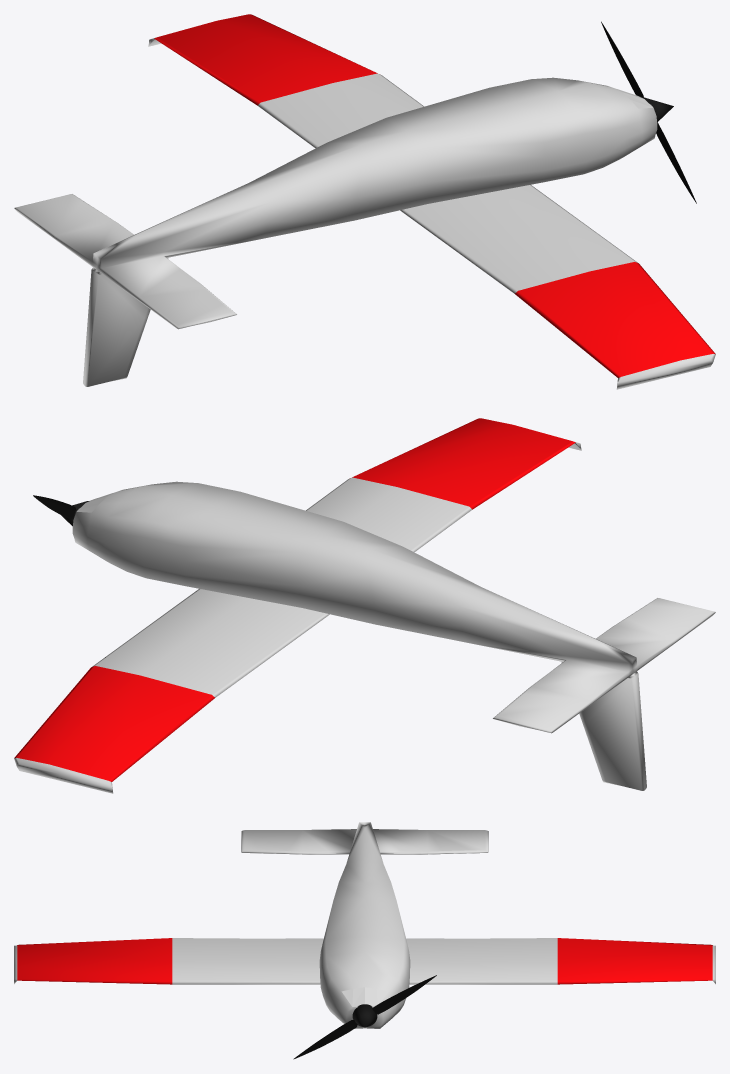
The model's file is miniplane_red.obj.
3 views of the same model, one above another, from view 1: azimuth 30°, elevation 25°; view 2: azimuth 150°, elevation 25°; view 3: azimuth 270°, elevation 25° (orthographic). The views are drawn at different scales.
Visible parts, largest first — view 1: Sirius_Cube, Propeller_Cube.001; view 2: Sirius_Cube; view 3: Sirius_Cube, Propeller_Cube.001.
Boxes of the visible parts, <box> form: Sirius_Cube: <box>14,14,715,389</box>; Propeller_Cube.001: <box>601,21,696,203</box>; Sirius_Cube: <box>14,418,715,793</box>; Sirius_Cube: <box>14,822,715,1028</box>; Propeller_Cube.001: <box>293,975,436,1059</box>.
Size of the model in its own units: 1.03 by 0.3247 by 1.42.
